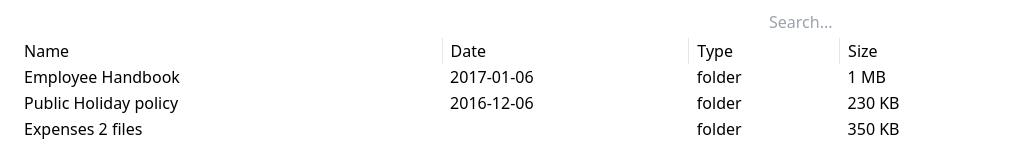
Test: Table component › sorts data based on column
Click the column heading "Name" at (229, 51), box [16,38,442,64]
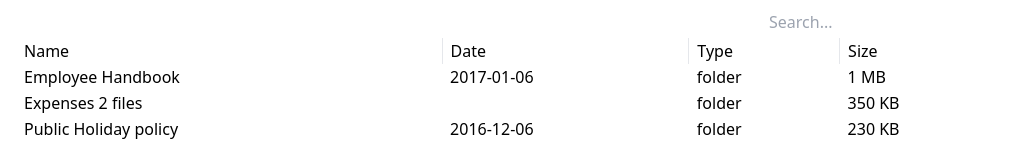
Click the column heading "Name" at (229, 51), box [16,38,442,64]
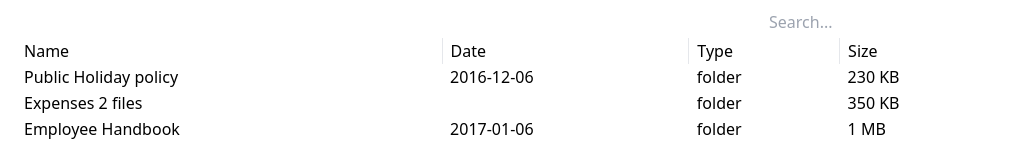
Now the row "Expenses 2 files folder 350 KB" is shown, box [16,90,1008,116]
Now the row "Public Holiday policy 2016-12-06 folder 230 KB" is shown, box [16,64,1008,90]
Now the row "Employee Handbook 2017-01-06 folder 1 MB" is shown, box [16,116,1008,142]
